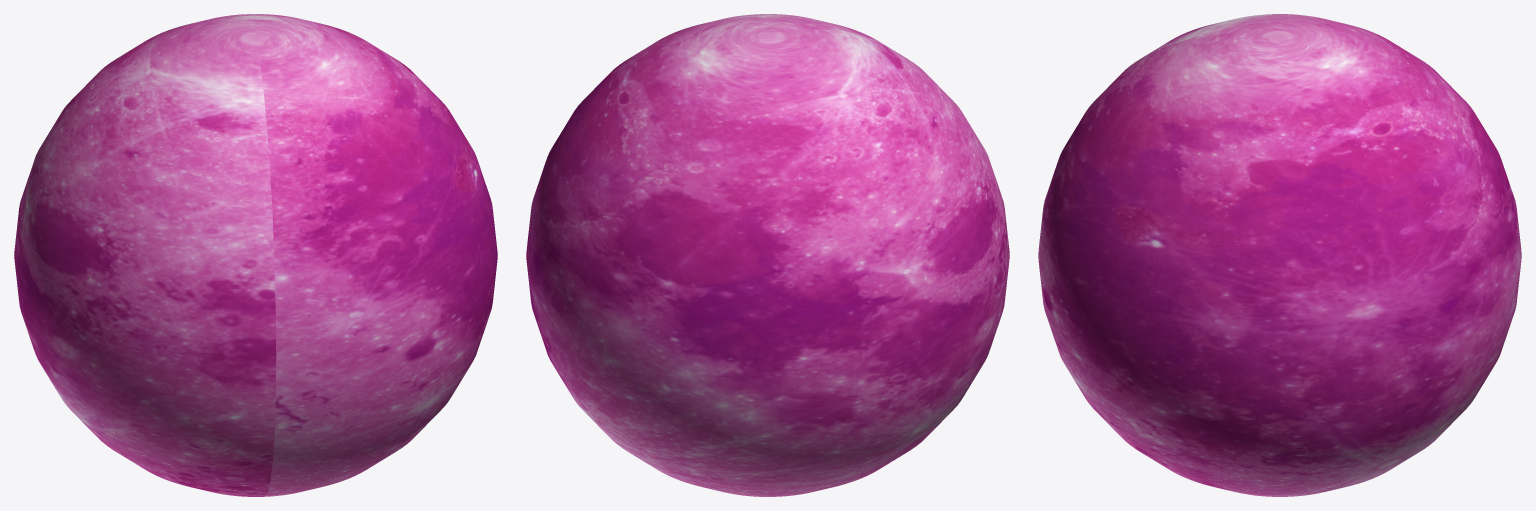
The model's file is moon.glb.
3 views of the same model, side by side, from view 1: azimuth 30°, elevation 25°; view 2: azimuth 150°, elevation 25°; view 3: azimuth 270°, elevation 25° (orthographic).
Parts seen in each view (by area): view 1: Sphere; view 2: Sphere; view 3: Sphere.
Part boxes in pixels (x1,y1,x2,y2): Sphere: (14,14,497,496); Sphere: (526,14,1009,496); Sphere: (1038,14,1521,496).
Size of the model in its own units: 2 by 2 by 2.
1 material, 1 textured.
